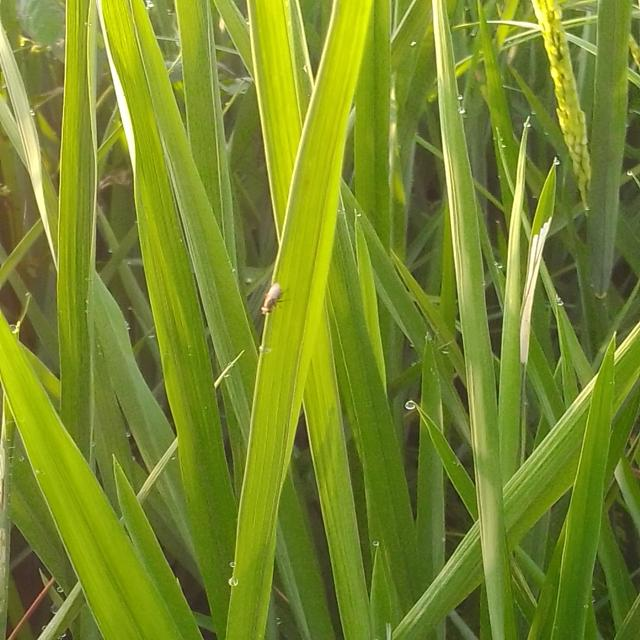healthy: (259, 278, 294, 323)
